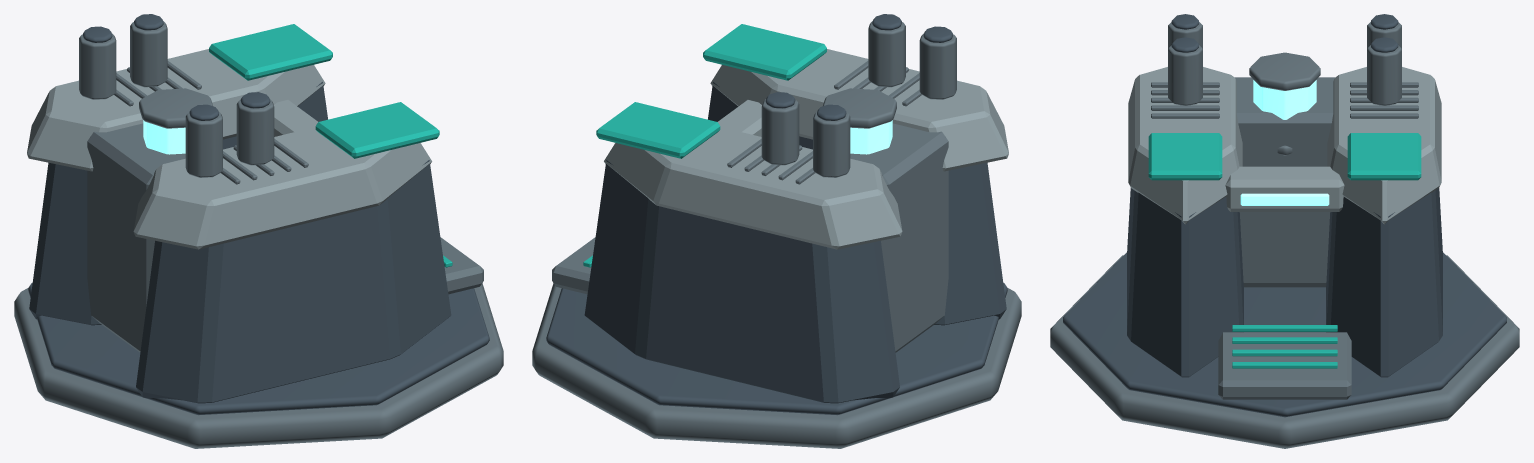
Rendered from SM_Kiln.fbx.
The picture shows the model from 3 angles, left to right: view 1: azimuth 30°, elevation 25°; view 2: azimuth 150°, elevation 25°; view 3: azimuth 270°, elevation 25°; orthographic projection. The views are drawn at different scales.
Visible parts, largest first — view 1: SM_Kiln; view 2: SM_Kiln; view 3: SM_Kiln.
Part boxes in pixels (x1,y1,x2,y2): SM_Kiln: (14,14,503,448); SM_Kiln: (532,14,1021,448); SM_Kiln: (1050,14,1519,448).
Bounding box in the file's own units: 180 × 180 × 120.
